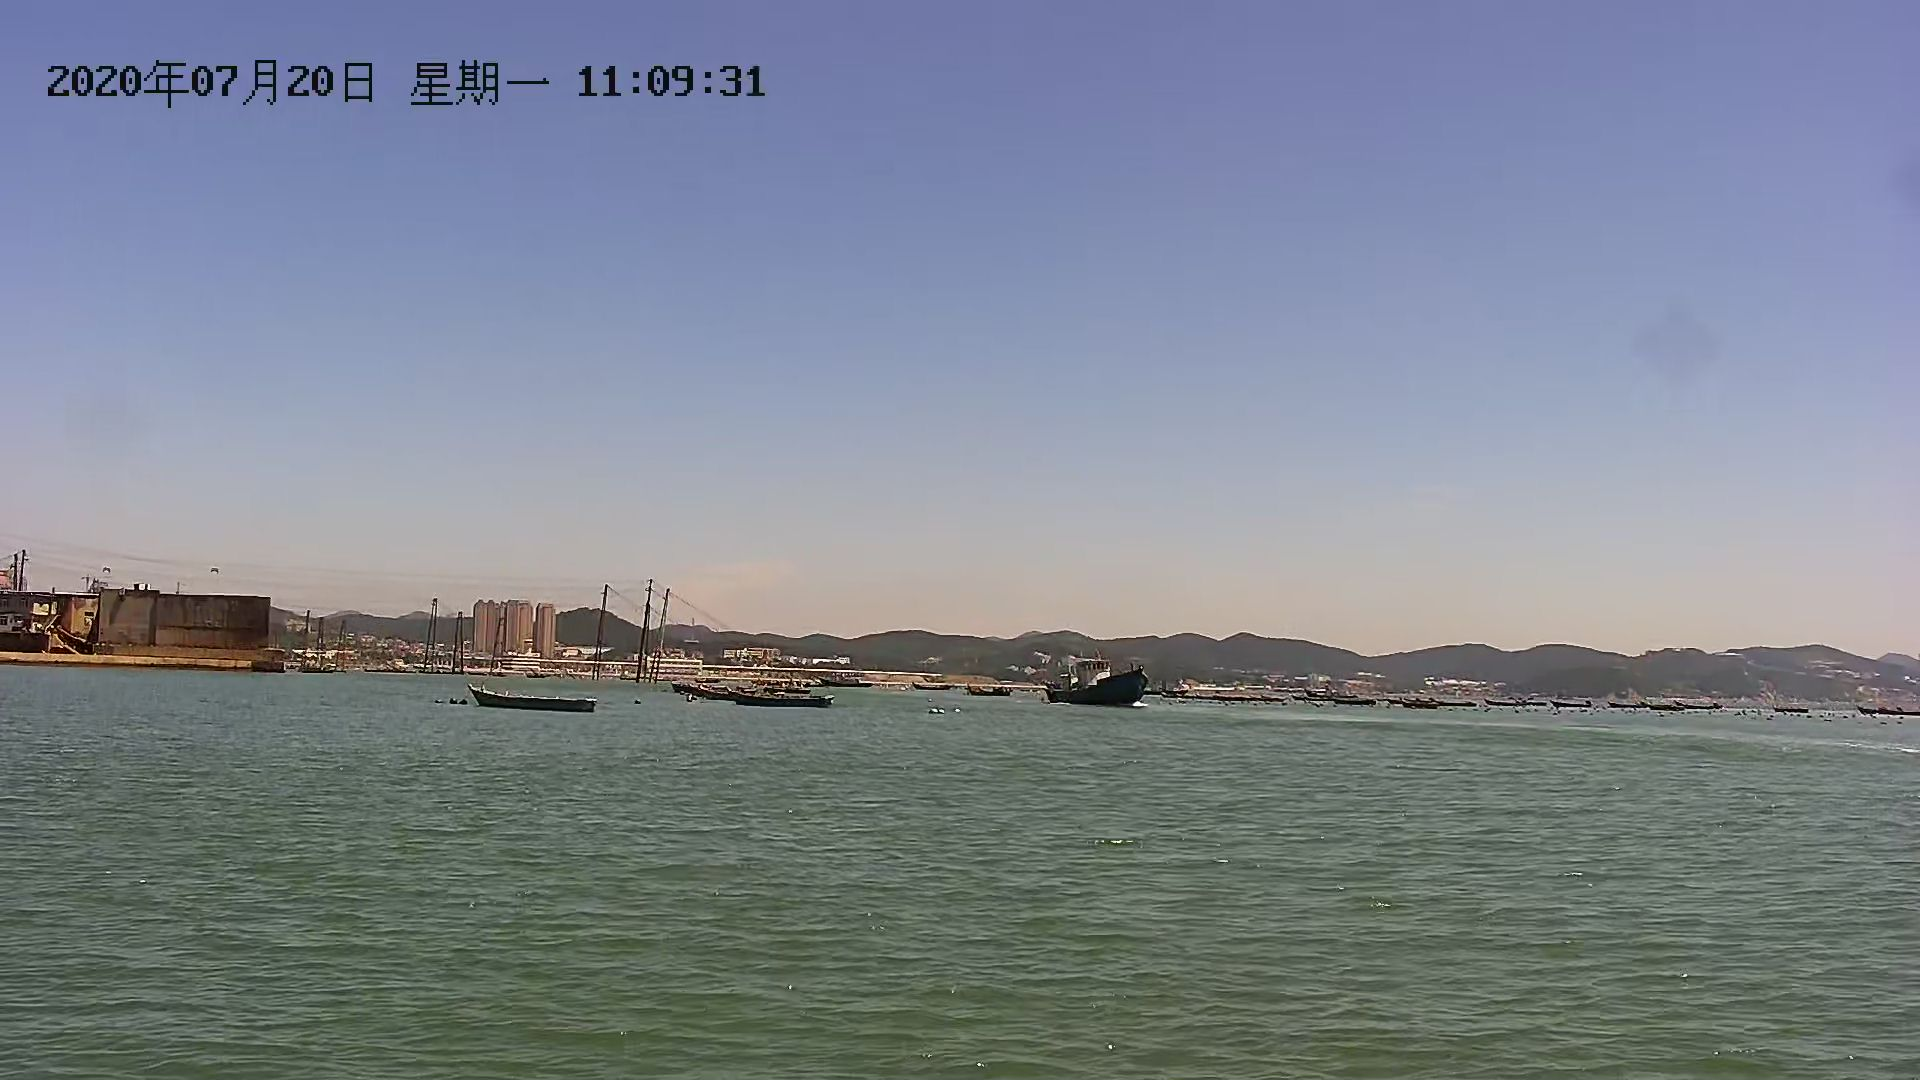boat: (676, 671, 793, 702), (724, 676, 841, 704), (471, 694, 601, 711)
ship: (1044, 650, 1163, 713)
